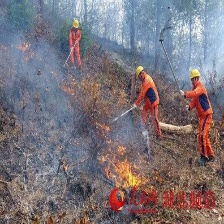helmet: (134, 67, 146, 81), (189, 69, 202, 81), (72, 18, 81, 30)
person: (185, 67, 218, 167), (133, 65, 162, 147), (69, 18, 83, 72)
vest: (189, 85, 218, 120), (137, 80, 161, 110), (69, 28, 82, 46)
